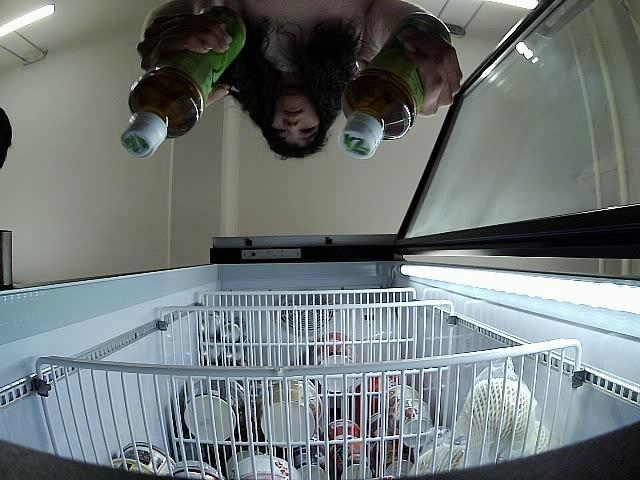19_17cha: (120, 8, 250, 158), (342, 13, 452, 157)
